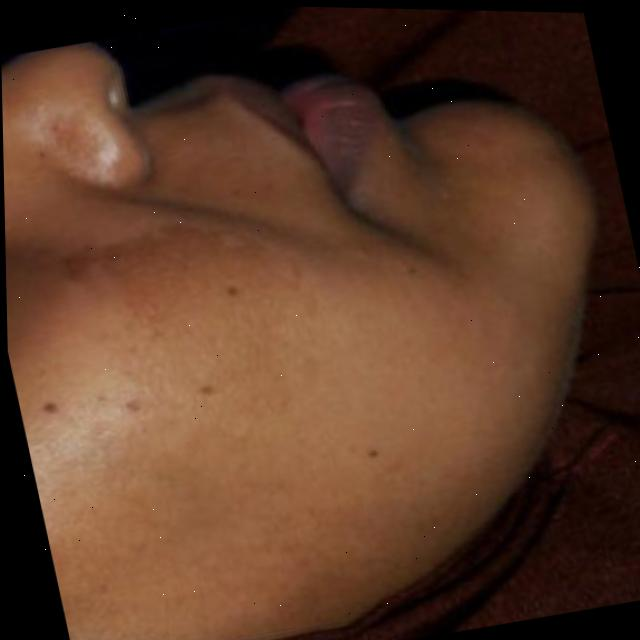Melasma: (75, 431, 337, 600), (63, 198, 296, 372)
